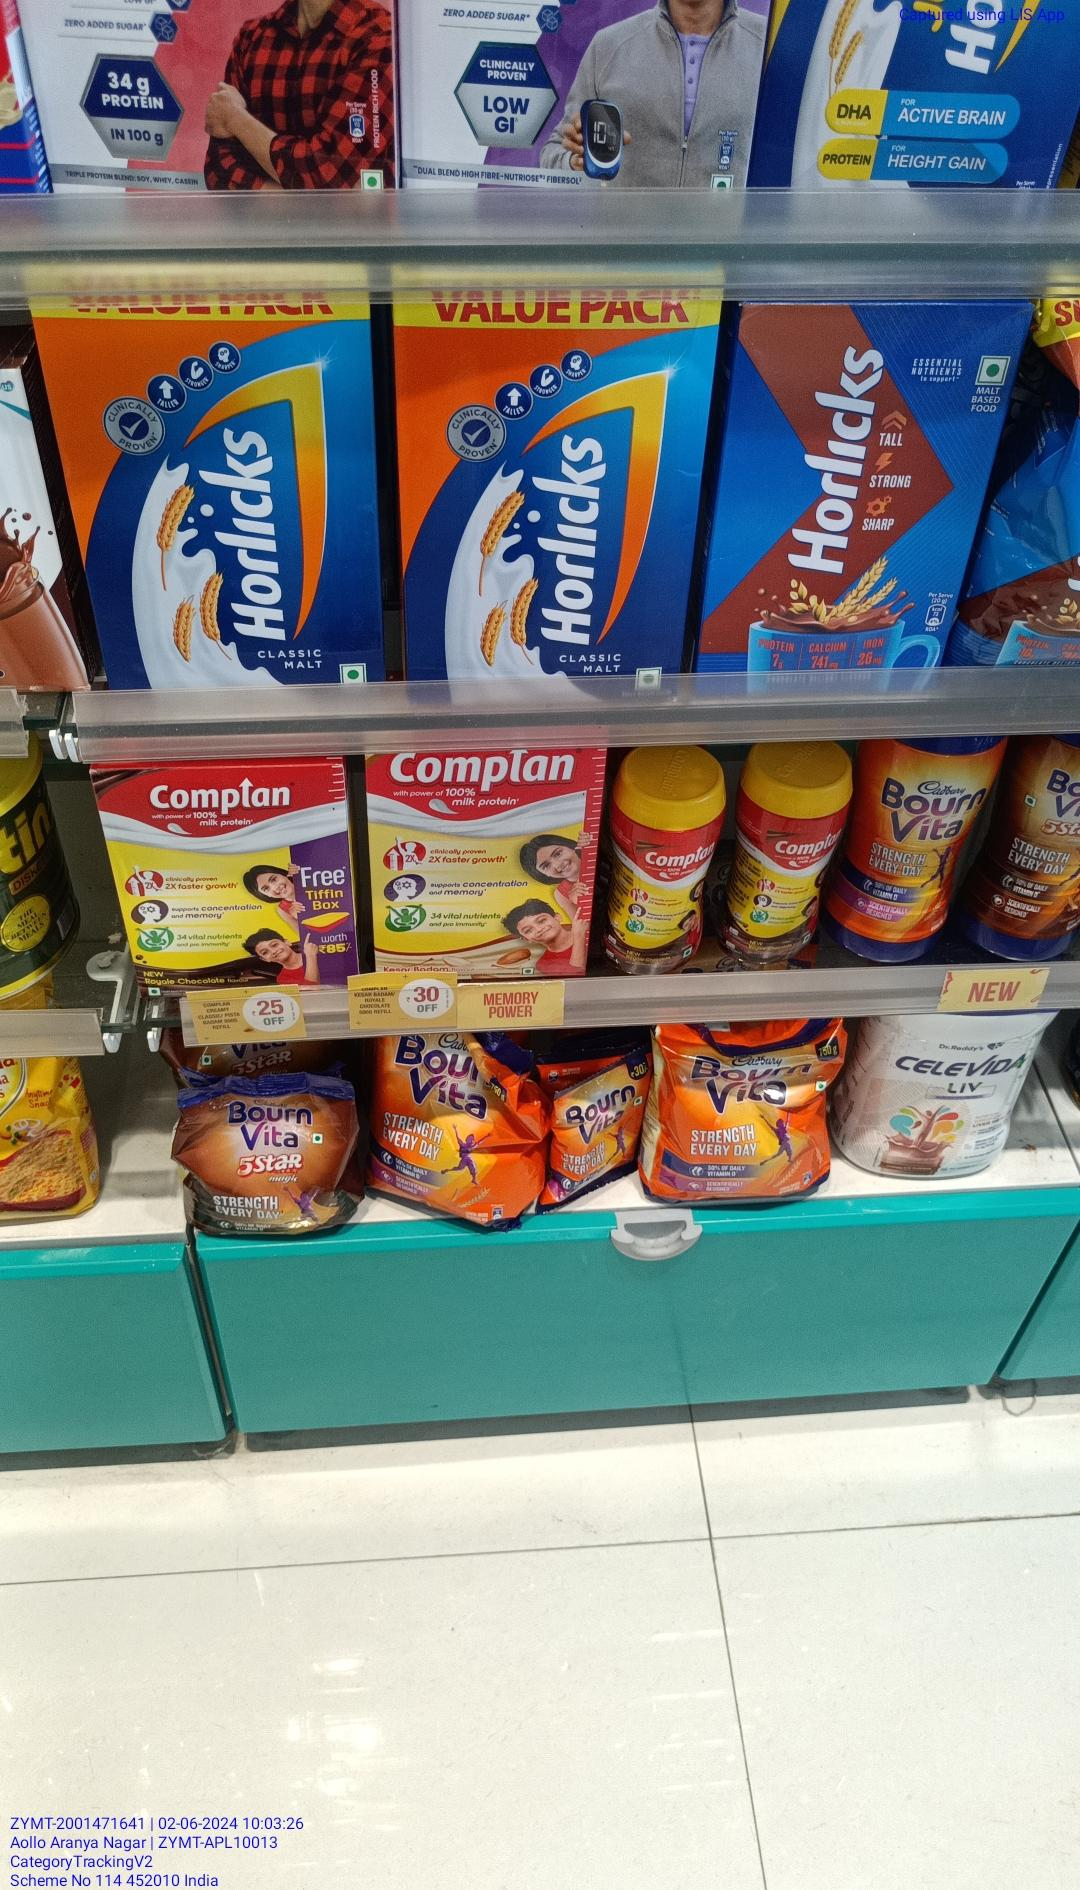BOURN_VITA_FIVE_STAR_MAGIC_500_G_POUCH: (177, 1068, 350, 1232)
